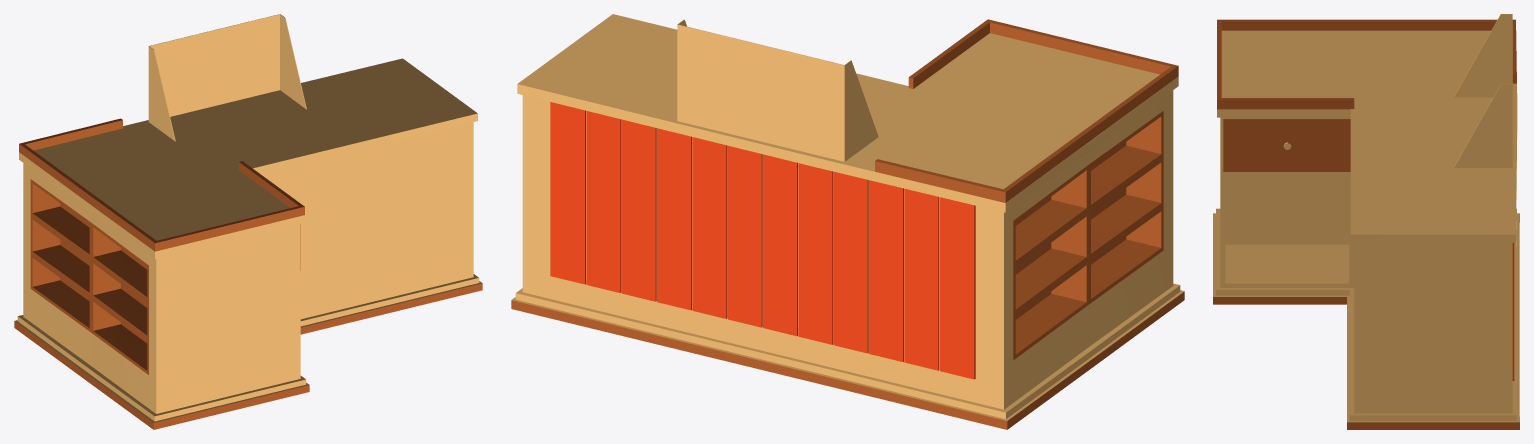
The model's file is Checkout Counter.fbx.
The picture shows the model from 3 angles, left to right: view 1: azimuth 30°, elevation 25°; view 2: azimuth 150°, elevation 25°; view 3: azimuth 270°, elevation 25°; orthographic projection. The views are drawn at different scales.
Visible parts, largest first — view 1: Node 0; view 2: Node 0; view 3: Node 0, Node 1.
Boxes of the visible parts, box(x1,y1,x2,y2) form: Node 0: box(14, 14, 482, 429); Node 0: box(511, 14, 1184, 429); Node 0: box(1213, 14, 1519, 429); Node 1: box(1223, 119, 1350, 171).
Size of the model in its own units: 1.31 by 1.3 by 2.11.
